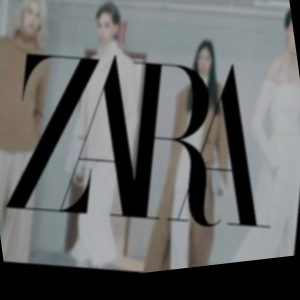zara: (276, 0, 287, 39)
